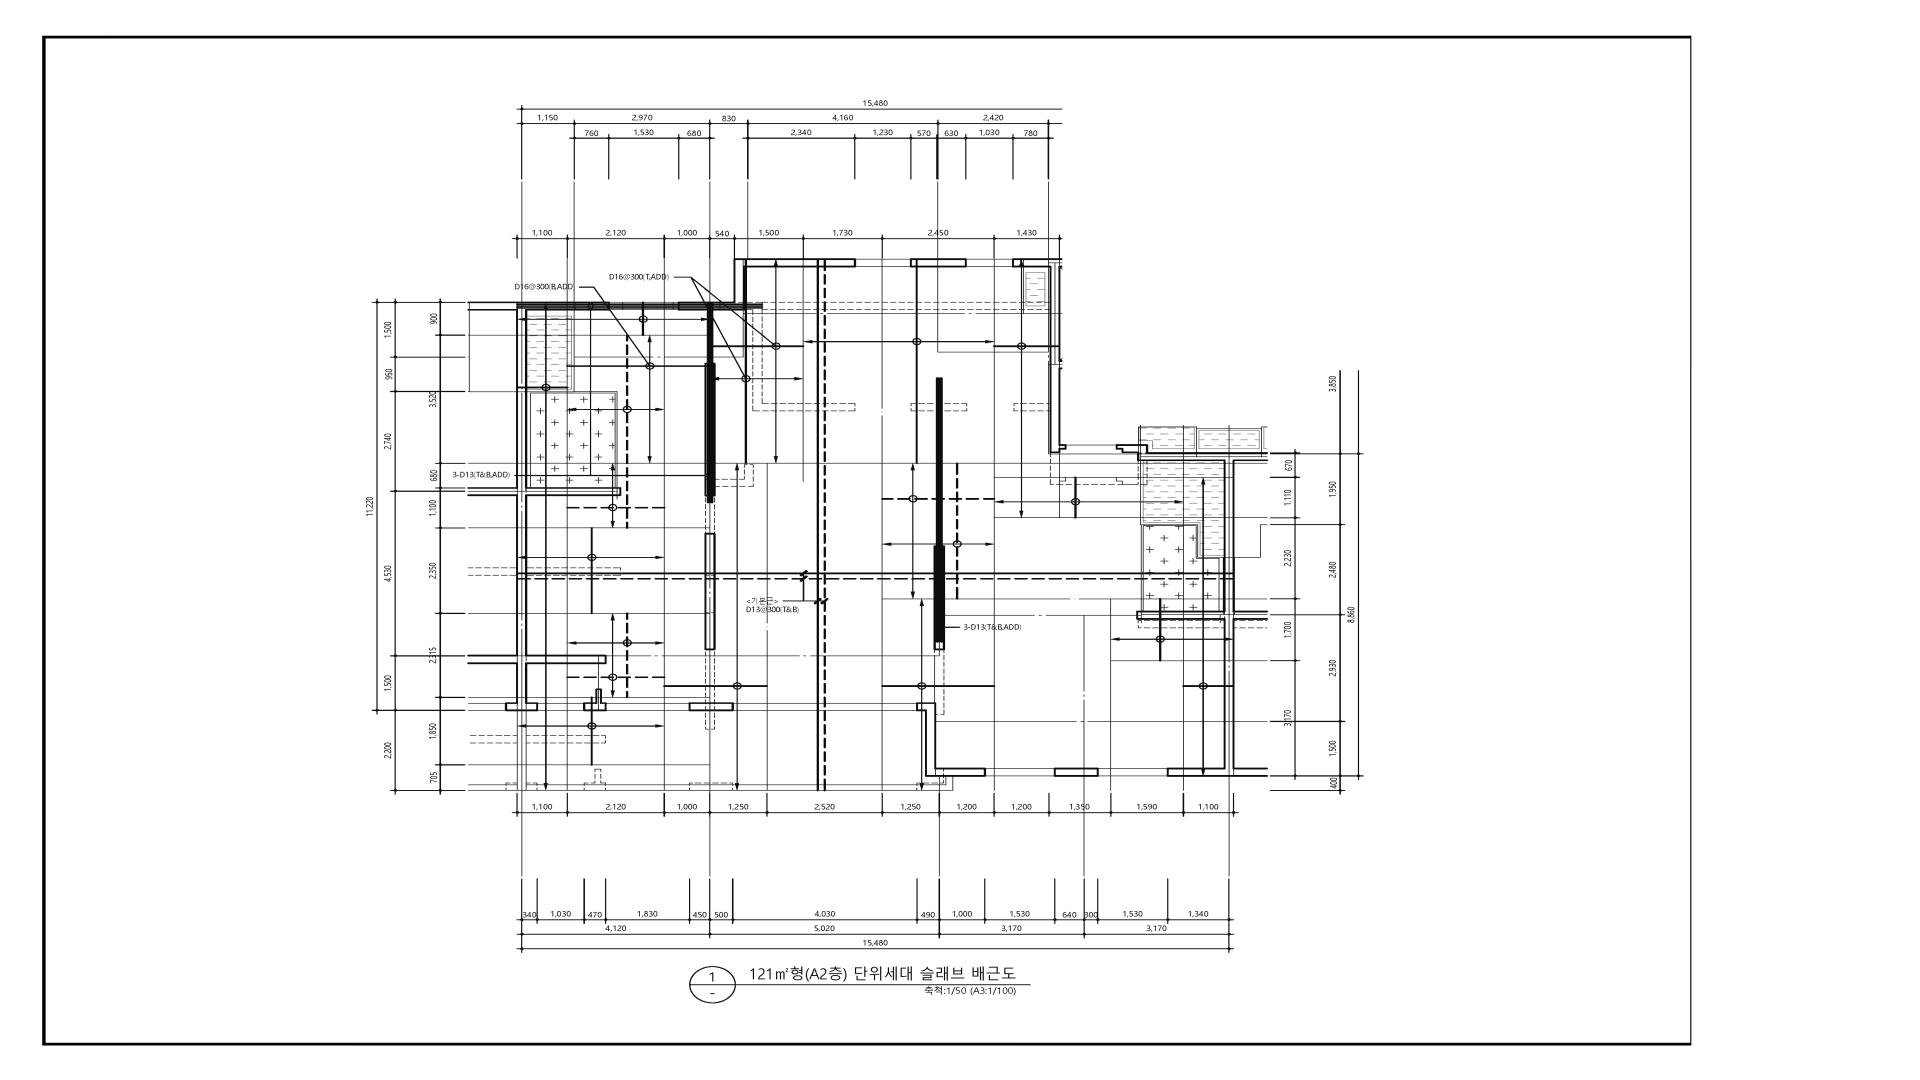wall: (817, 258, 826, 573), (1049, 267, 1060, 453), (945, 573, 1235, 580), (527, 784, 817, 791), (516, 310, 527, 487), (817, 580, 826, 791), (1223, 620, 1235, 768), (705, 573, 934, 580), (704, 363, 716, 496), (1223, 461, 1235, 573), (516, 573, 705, 580), (936, 378, 943, 546), (934, 545, 945, 642), (516, 496, 527, 573), (527, 487, 621, 496), (516, 579, 527, 655), (517, 711, 527, 791), (1136, 611, 1223, 620), (705, 580, 716, 650), (527, 302, 610, 311), (527, 655, 607, 664), (826, 785, 946, 791), (747, 258, 817, 268), (1148, 452, 1224, 461), (925, 711, 936, 768), (733, 258, 747, 302), (925, 768, 986, 777), (910, 258, 967, 267), (1167, 768, 1224, 777), (467, 655, 516, 664), (705, 533, 716, 573), (468, 487, 516, 496), (516, 664, 527, 703), (689, 702, 734, 711), (1054, 768, 1099, 777), (467, 302, 516, 310), (1223, 580, 1235, 611), (1012, 258, 1049, 268), (707, 302, 713, 363), (713, 302, 747, 311), (1234, 611, 1268, 620), (1234, 452, 1268, 461), (1235, 768, 1268, 777), (468, 785, 517, 791), (826, 258, 856, 267), (505, 703, 538, 711), (678, 302, 707, 310), (583, 702, 606, 711), (1116, 444, 1137, 453), (1137, 444, 1148, 461), (916, 702, 936, 711), (1049, 258, 1062, 267), (945, 777, 953, 791), (1223, 611, 1235, 620), (516, 302, 527, 311), (516, 487, 527, 496), (516, 655, 527, 664), (1224, 768, 1235, 777), (1223, 452, 1234, 461), (595, 688, 602, 702), (934, 642, 945, 650), (707, 496, 713, 503), (1060, 444, 1067, 450)
